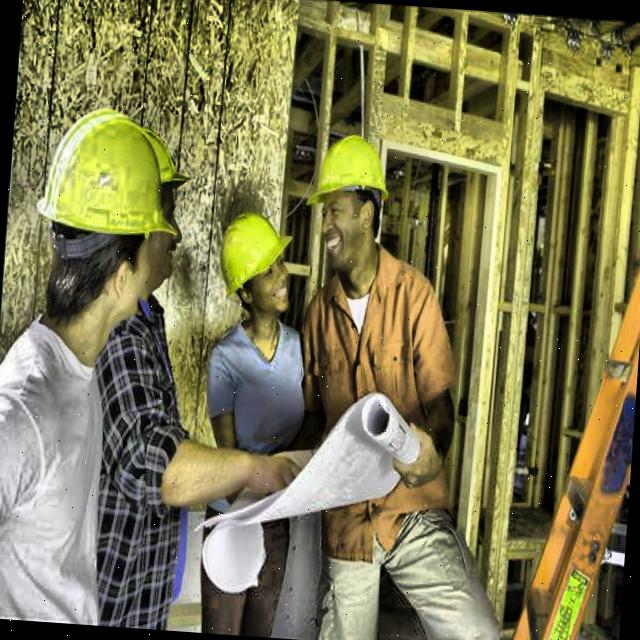helmet: (36, 107, 170, 323), (304, 130, 389, 276), (126, 124, 190, 290), (212, 208, 302, 316)
